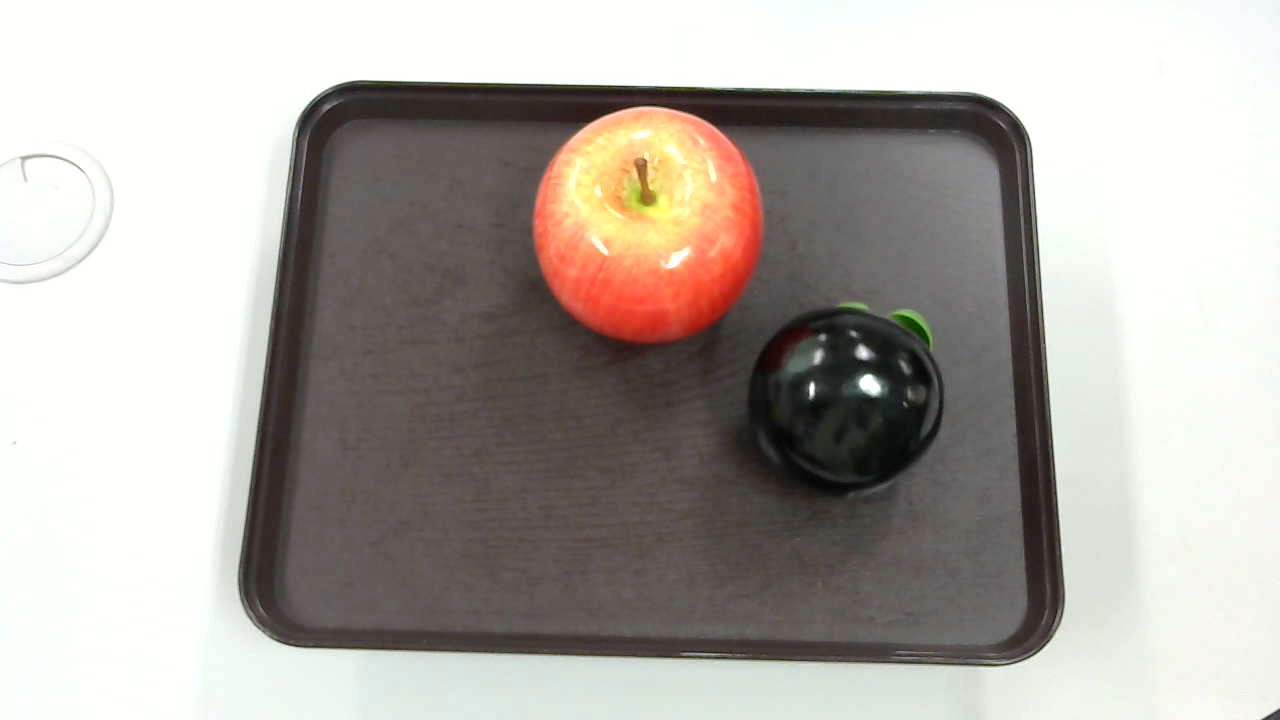mangosteen: (742, 300, 944, 496)
red apple: (525, 105, 769, 347)
